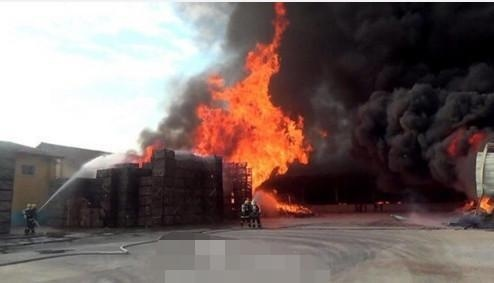fire: (193, 7, 315, 214), (128, 141, 159, 166), (475, 193, 493, 211)
